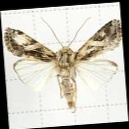Spodoptera litura: (5, 14, 124, 114)
